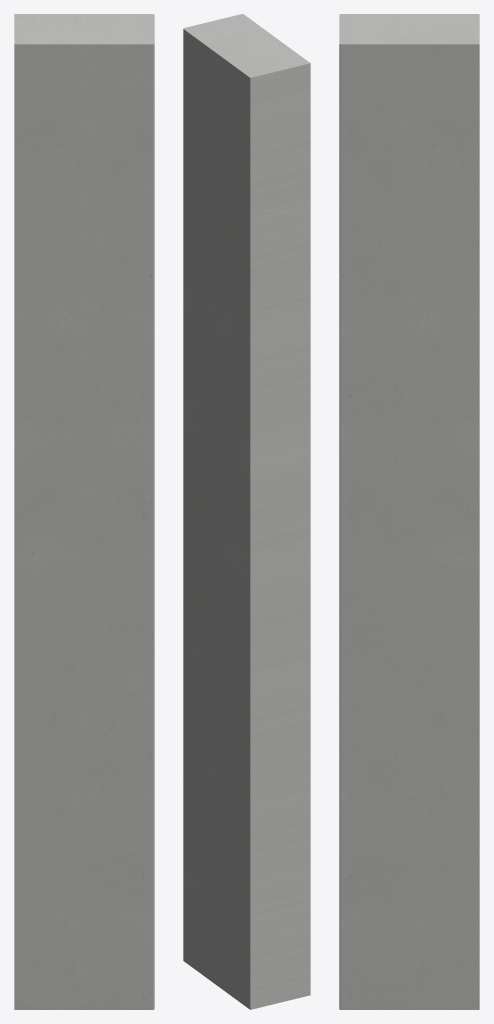
Rendered from Zhu.fbx.
3 views of the same model, side by side, from view 1: azimuth 90°, elevation 25°; view 2: azimuth 210°, elevation 25°; view 3: azimuth 270°, elevation 25° (orthographic). The views are drawn at different scales.
Parts seen in each view (by area): view 1: polySurface359; view 2: polySurface359; view 3: polySurface359.
Boxes of the visible parts, x1,y1,x2,y2 form: polySurface359: [14, 14, 154, 1009]; polySurface359: [183, 14, 310, 1009]; polySurface359: [339, 14, 479, 1009].
Size of the model in its own units: 0.18 by 2.66 by 0.35.
Materials: 1 (1 with a texture image).
